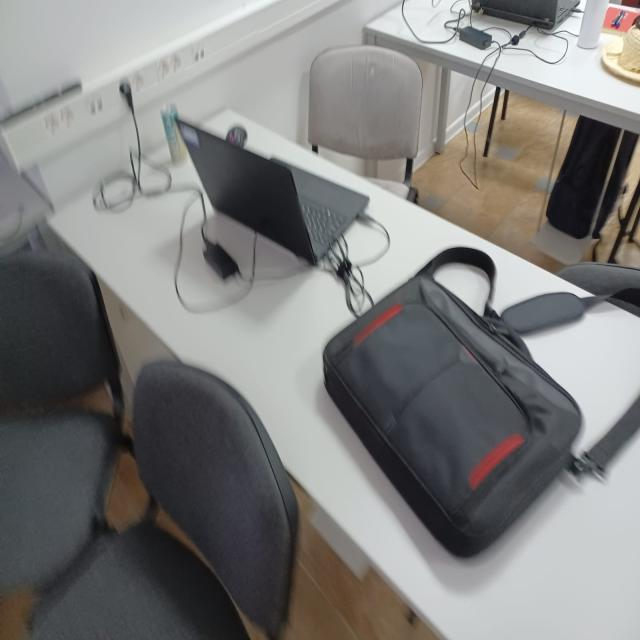Laptops_bbox: (162, 75, 379, 296)
